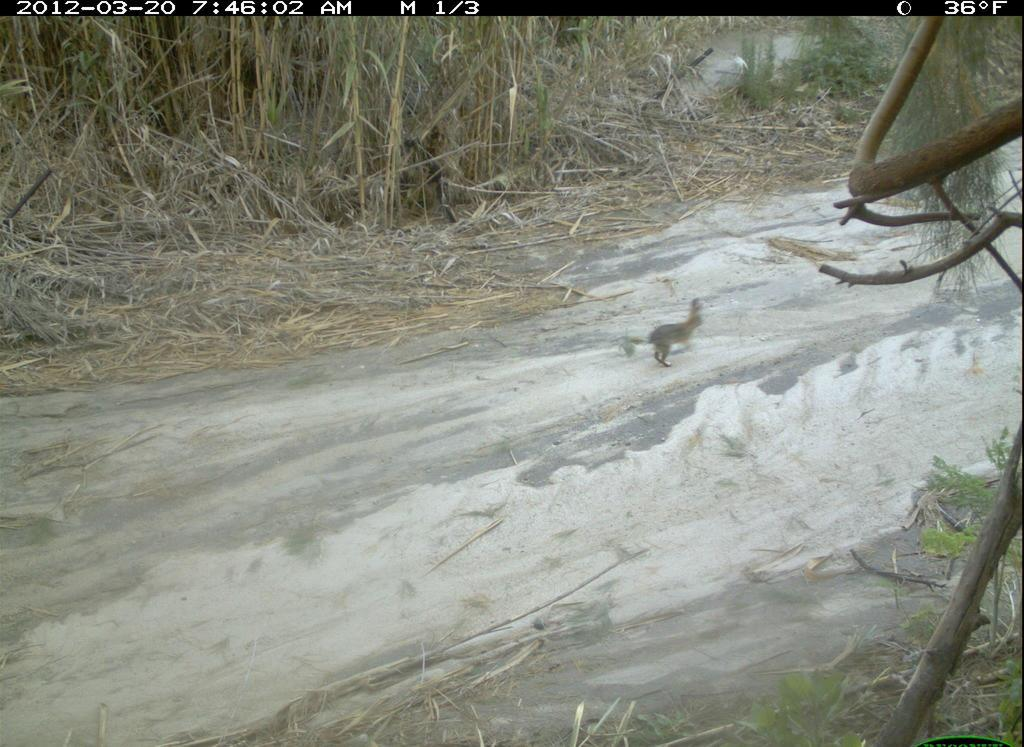rabbit: (633, 294, 713, 377)
